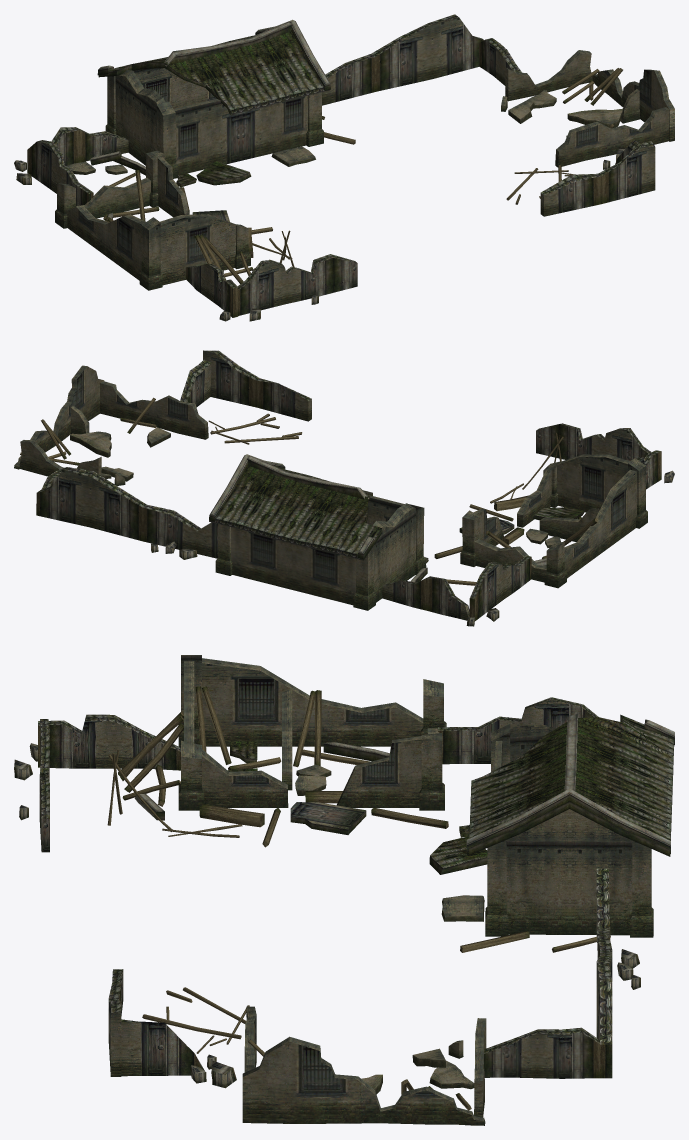
File: bigmap_feiwu01.FBX
The picture shows the model from 3 angles, top to bottom: view 1: azimuth 30°, elevation 25°; view 2: azimuth 150°, elevation 25°; view 3: azimuth 270°, elevation 25°; orthographic projection. The views are drawn at different scales.
Visible parts, largest first — view 1: WDfeiqicunzhuang03; view 2: WDfeiqicunzhuang03; view 3: WDfeiqicunzhuang03.
Boxes of the visible parts, <box> form: WDfeiqicunzhuang03: <box>14,14,674,321</box>; WDfeiqicunzhuang03: <box>14,350,674,626</box>; WDfeiqicunzhuang03: <box>14,655,674,1125</box>.
Bounding box in the file's own units: 4.8 × 3.47 × 0.8847.
